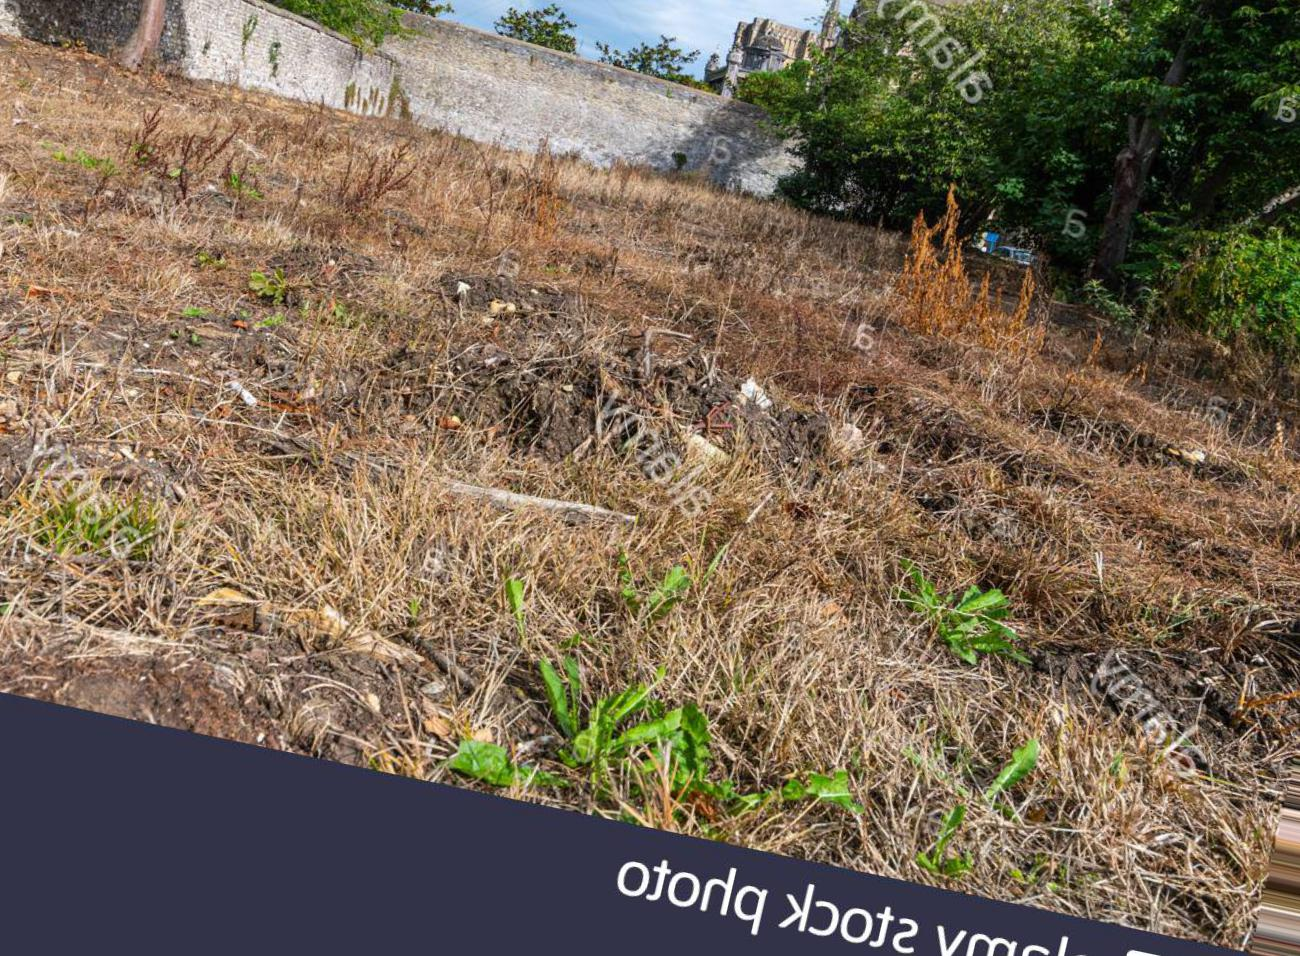patch: (305, 514, 429, 585), (193, 222, 302, 301), (772, 501, 855, 583)
